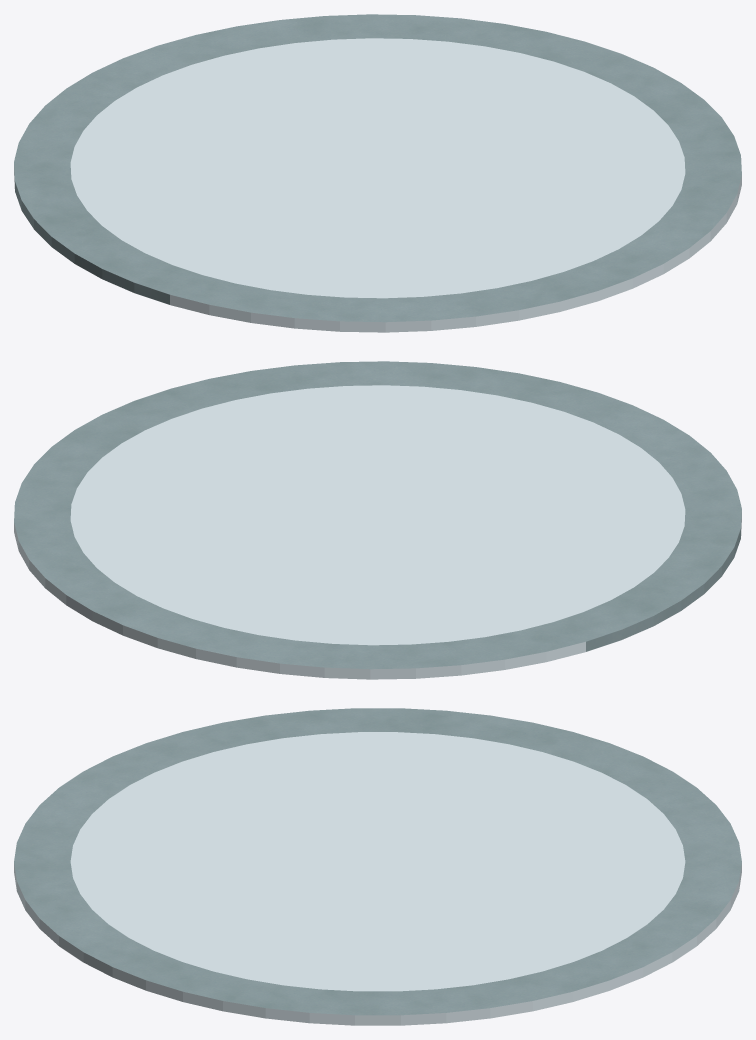
The model's file is base desconexion_unity.fbx.
3 renders of one model, top to bottom at view 1: azimuth 30°, elevation 25°; view 2: azimuth 150°, elevation 25°; view 3: azimuth 270°, elevation 25°, orthographic.
Parts seen in each view (by area): view 1: Cylinder; view 2: Cylinder; view 3: Cylinder.
Part boxes in pixels (<box>): Cylinder: <box>14,14,741,332</box>; Cylinder: <box>14,361,741,679</box>; Cylinder: <box>14,708,741,1025</box>.
Size of the model in its own units: 5907 by 93.33 by 5919.
Materials: 2 (2 with a texture image).
